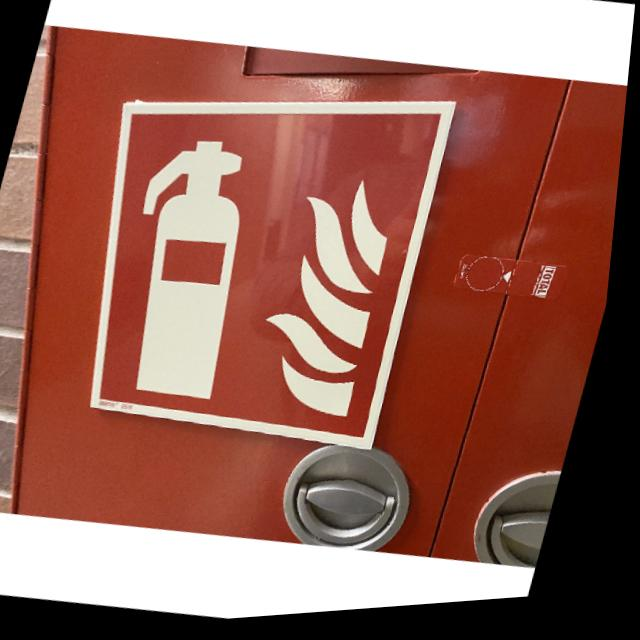fire extinguisher: (44, 49, 471, 474)
